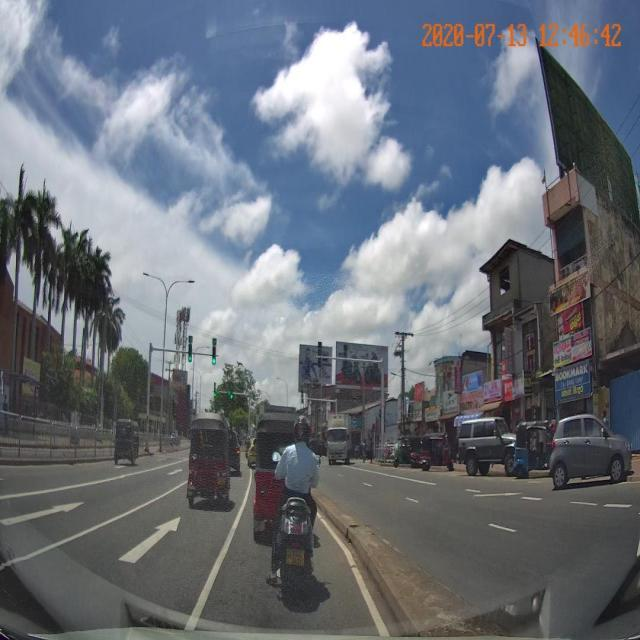Liniya 1: (4, 479, 188, 568), (183, 470, 253, 630), (316, 510, 391, 637), (1, 455, 188, 500), (345, 465, 438, 486), (487, 522, 517, 534), (570, 501, 597, 506), (603, 504, 633, 508), (521, 496, 543, 501), (465, 487, 481, 493), (406, 496, 418, 503)
Strelka vpered: (117, 517, 181, 564), (0, 503, 84, 526)
